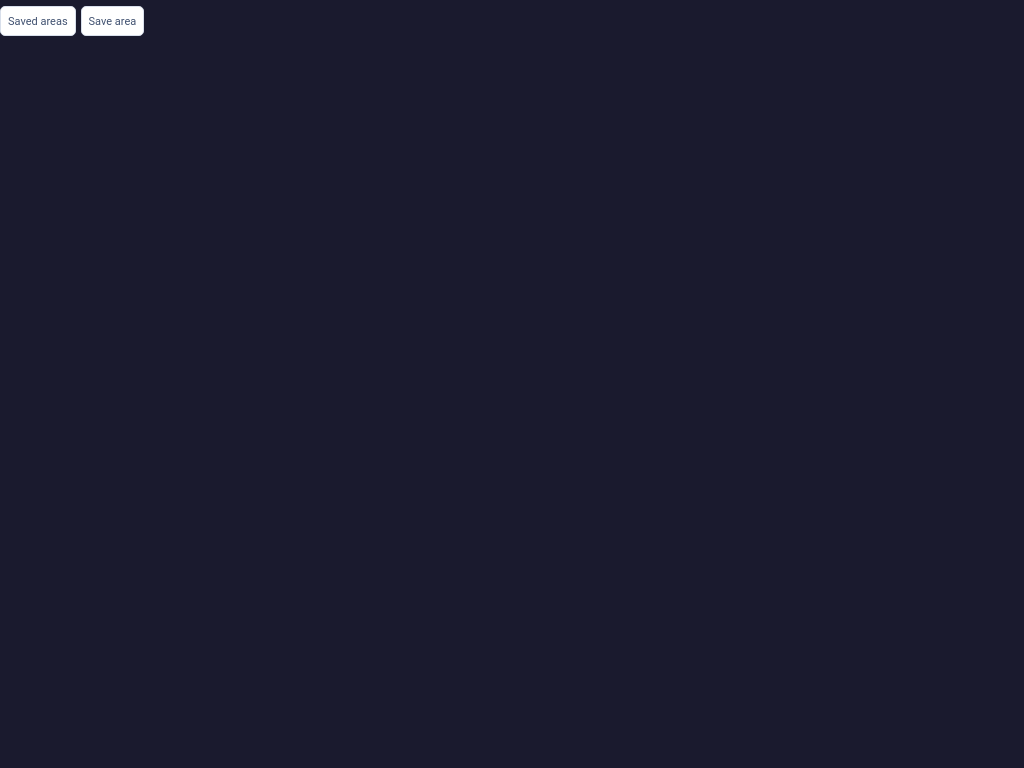
Test case: late saves remain global library records without applying to another conversation
This screenshot has width=1024, height=768.
Click the button "Save area". click: (112, 21)
box: [81,6,144,36]
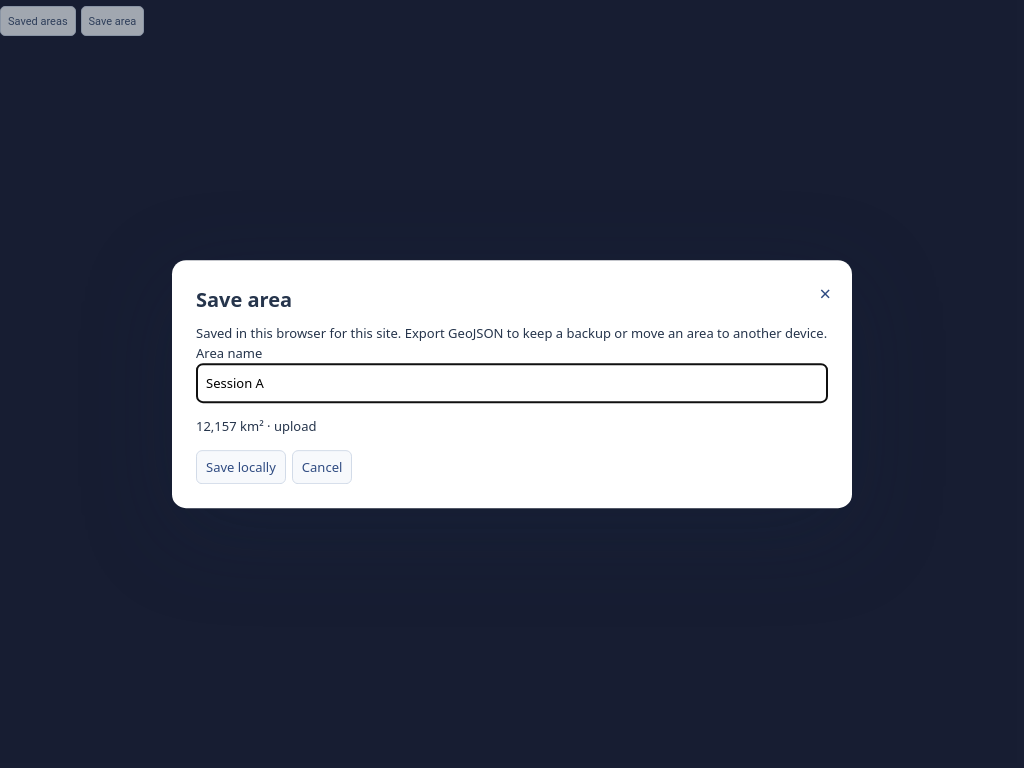
Check: the button "Save locally" is shown
Click the button "Save locally". click: (241, 467)
box: [196,450,286,484]
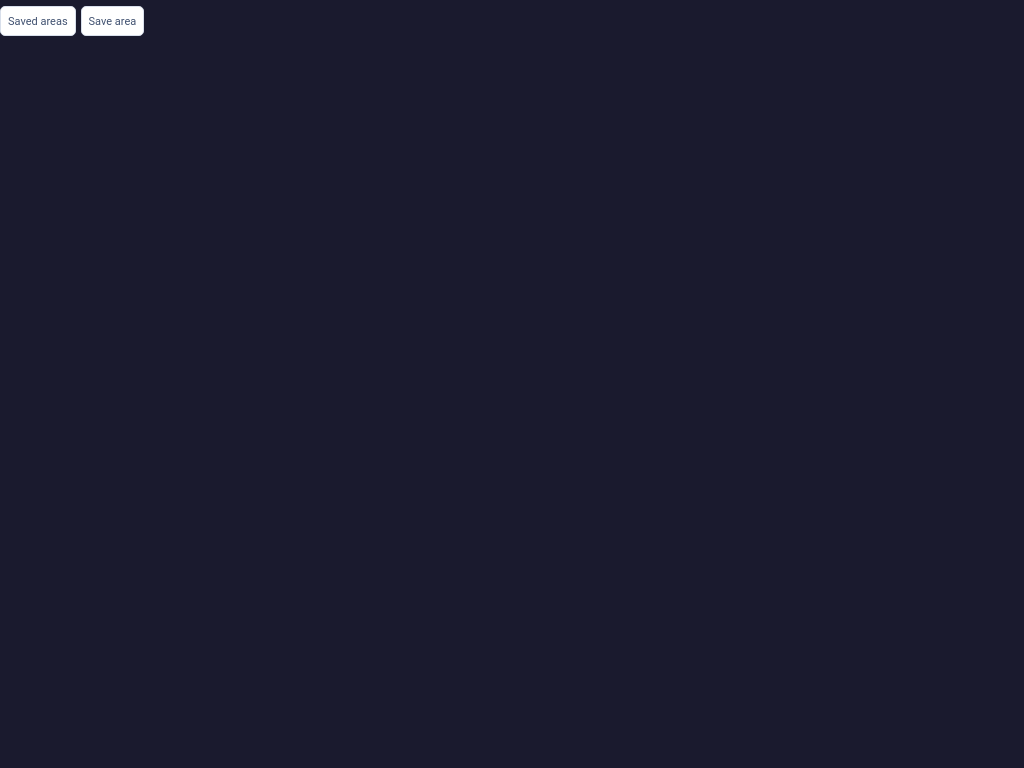
Check: the dialog is gone
